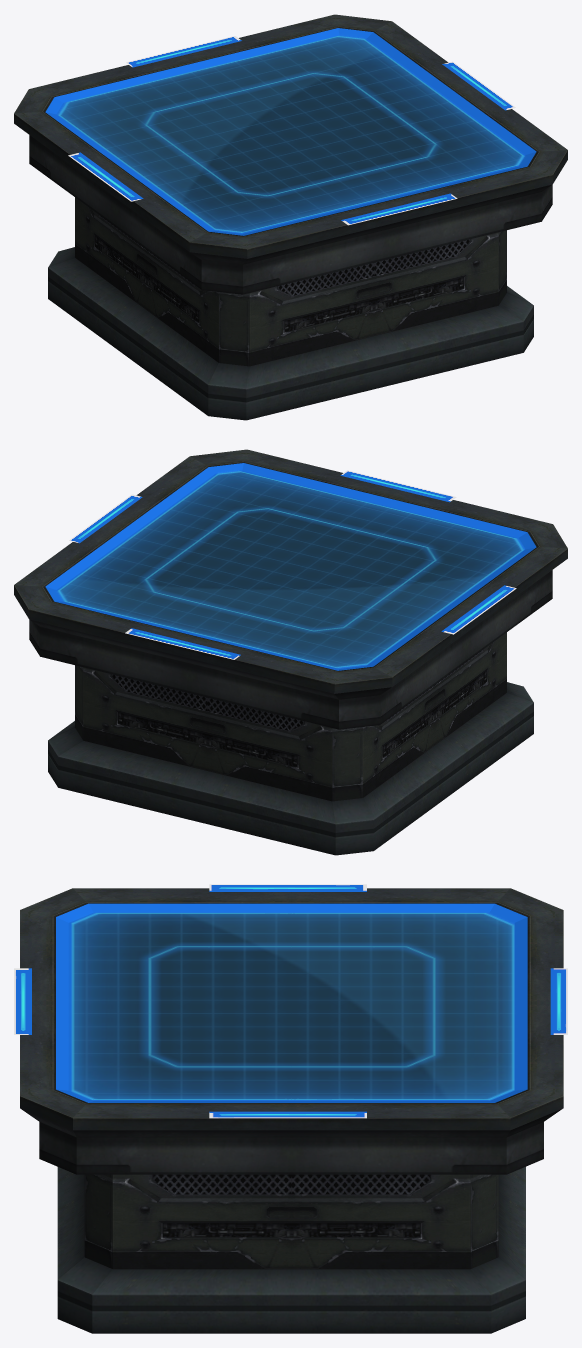
Rendered from ts_mjtszdcj.FBX.
3 views of the same model, one above another, from view 1: azimuth 30°, elevation 25°; view 2: azimuth 150°, elevation 25°; view 3: azimuth 270°, elevation 25° (orthographic). The views are drawn at different scales.
Parts seen in each view (by area): view 1: tx_mjzdcj001, tx_mjzddg001; view 2: tx_mjzdcj001, tx_mjzddg001; view 3: tx_mjzdcj001, tx_mjzddg001.
Part boxes in pixels (left/top/right/bottom): tx_mjzdcj001: left=14, top=14, right=567, bottom=420; tx_mjzddg001: left=45, top=28, right=536, bottom=235; tx_mjzdcj001: left=14, top=449, right=567, bottom=855; tx_mjzddg001: left=45, top=463, right=536, bottom=670; tx_mjzdcj001: left=20, top=888, right=563, bottom=1333; tx_mjzddg001: left=14, top=884, right=567, bottom=1118.
Size of the model in its own units: 22.82 by 10.61 by 22.84.
Materials: 2 (2 with a texture image).
